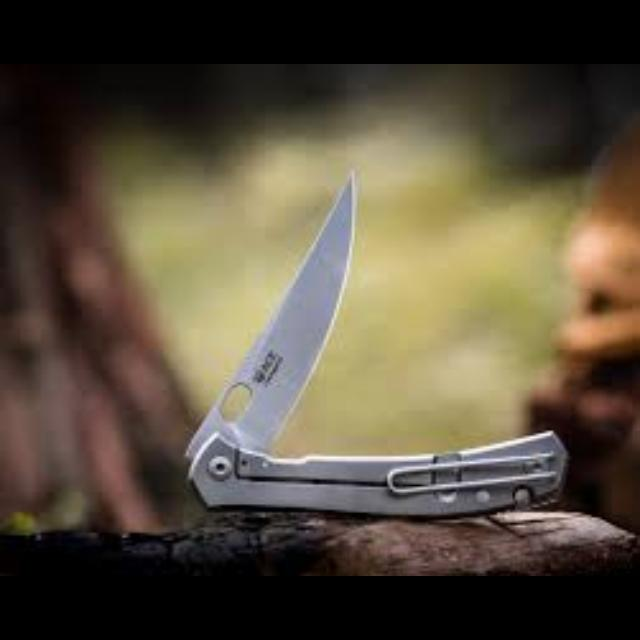Knife: (184, 167, 568, 518)
